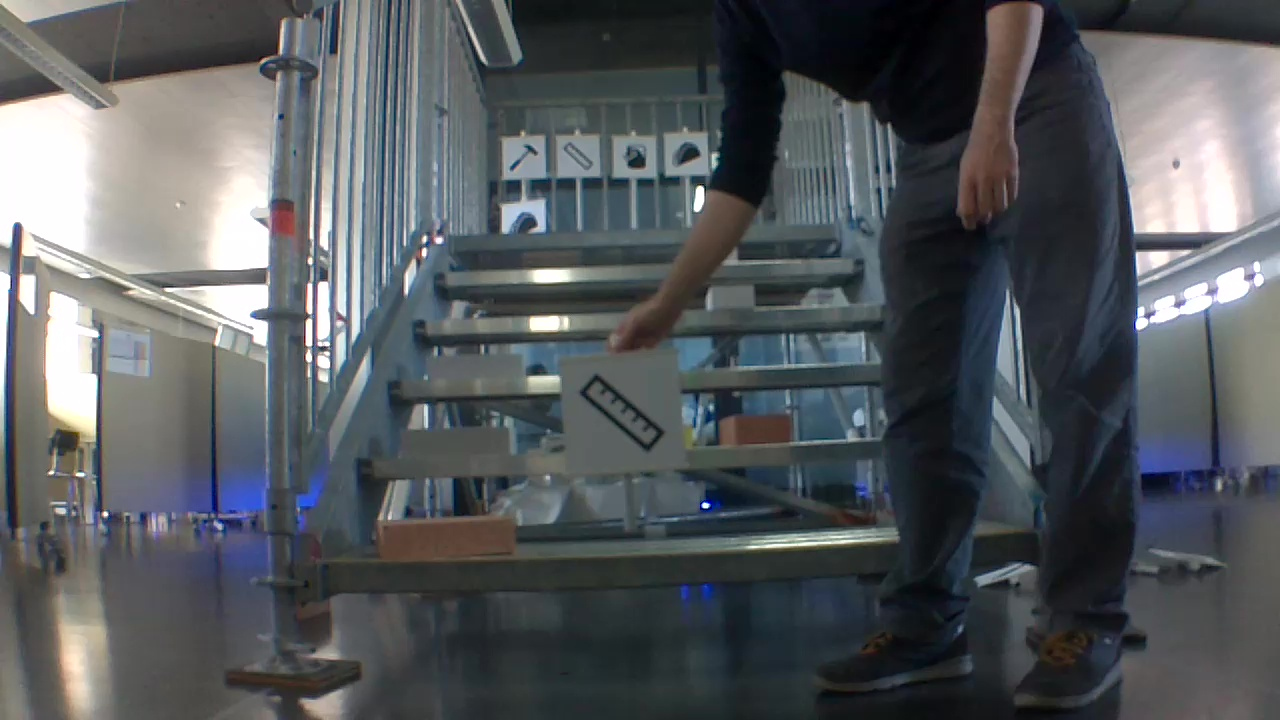brick: (377, 509, 518, 558), (405, 422, 516, 448), (718, 410, 793, 446), (425, 351, 518, 380), (707, 283, 754, 309)
bucket: (620, 141, 648, 171)
hammer: (508, 143, 540, 170)
ruler: (576, 368, 668, 455), (563, 140, 593, 173)
taco: (671, 140, 706, 172), (505, 209, 537, 233)
